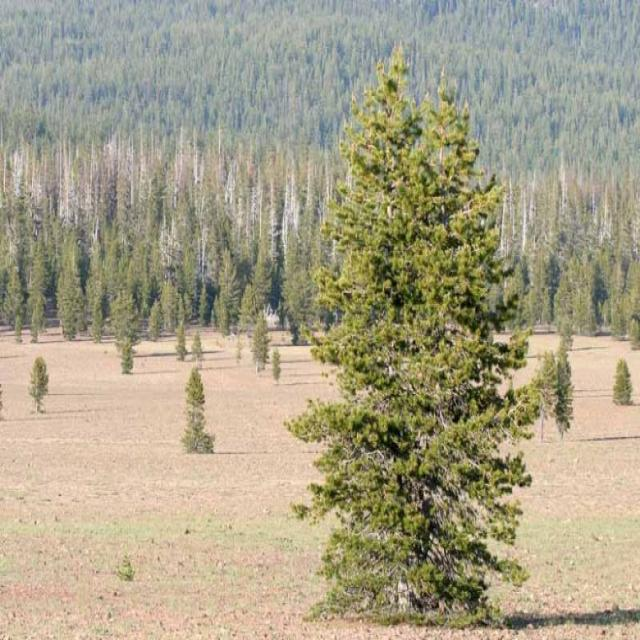Pinus contorta var: (287, 31, 535, 634)
